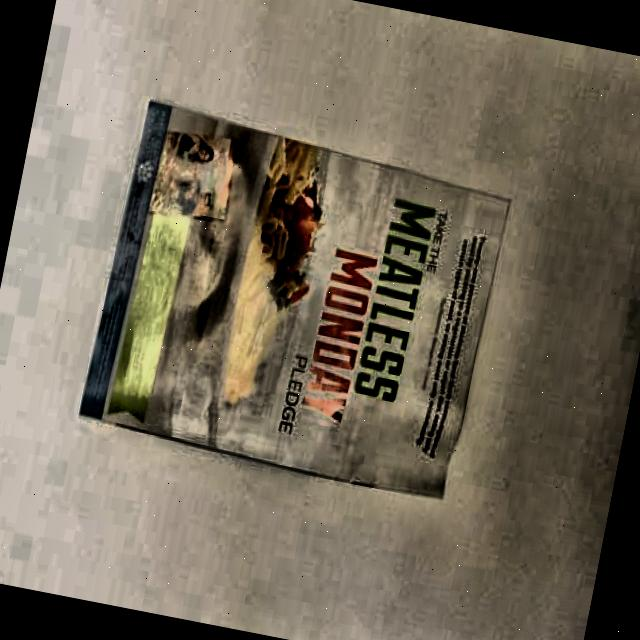paper: (76, 82, 523, 510)
